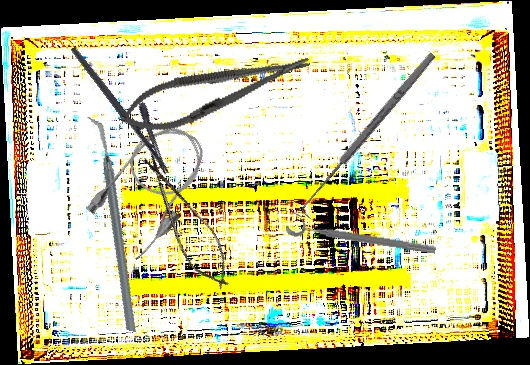Cannula: (79, 111, 225, 265)
Chopper: (35, 116, 189, 333)
Fixation Ring: (284, 210, 439, 259)
Hook Surgical: (295, 50, 444, 220)
Micro Scissor: (129, 144, 243, 300)
Needle Holder: (113, 38, 318, 145), (69, 33, 188, 176)
